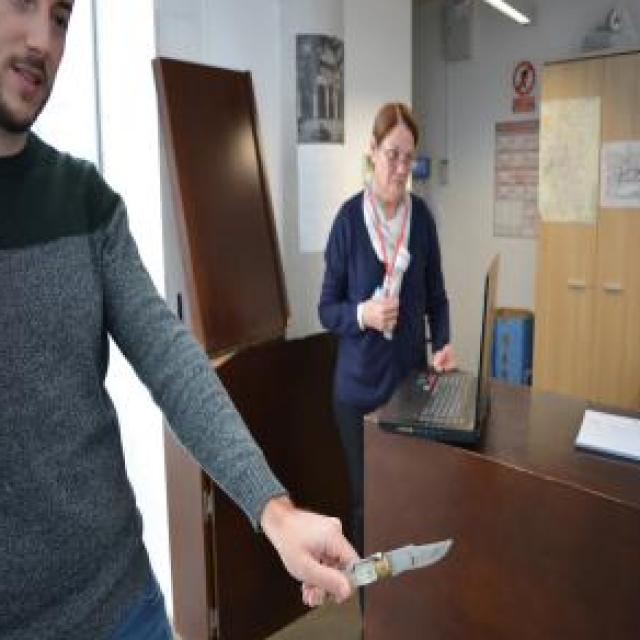knife: (317, 530, 458, 612)
